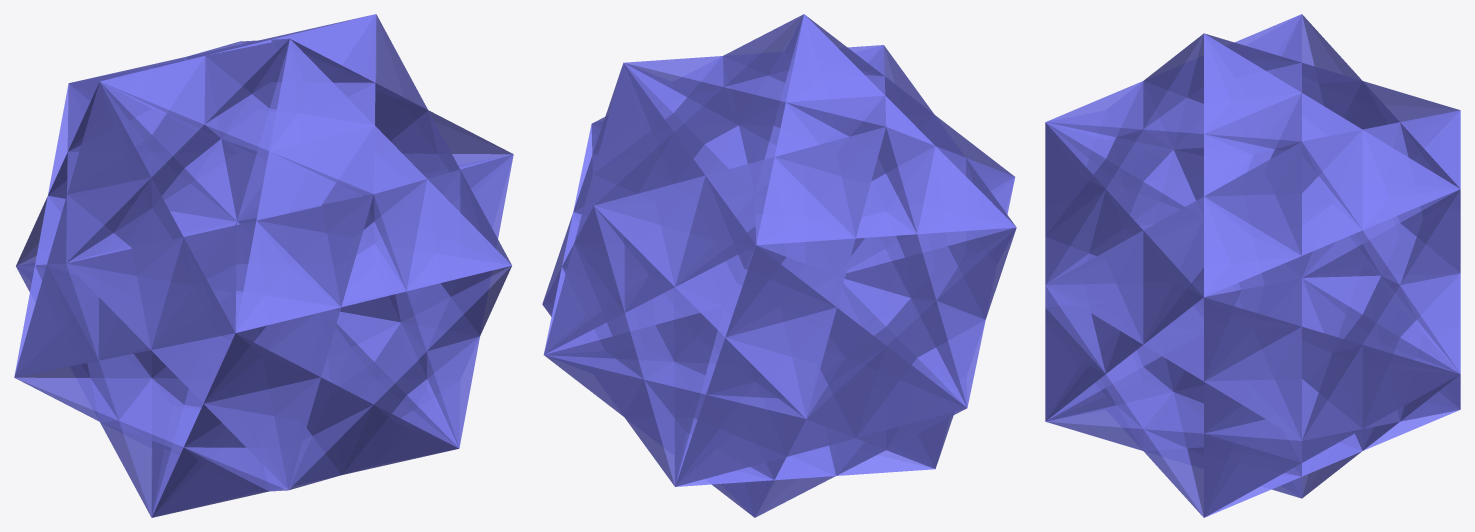
Rendered from 21_Dodekexcavated_Gidtid.obj.
The picture shows the model from 3 angles, left to right: view 1: azimuth 30°, elevation 25°; view 2: azimuth 150°, elevation 25°; view 3: azimuth 270°, elevation 25°; orthographic projection. The views are drawn at different scales.
Size of the model in its own units: 1.62 by 1.7 by 1.38.
